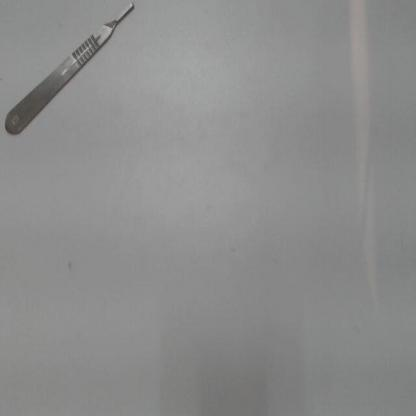No.3 BP Handle: (4, 1, 143, 138)
